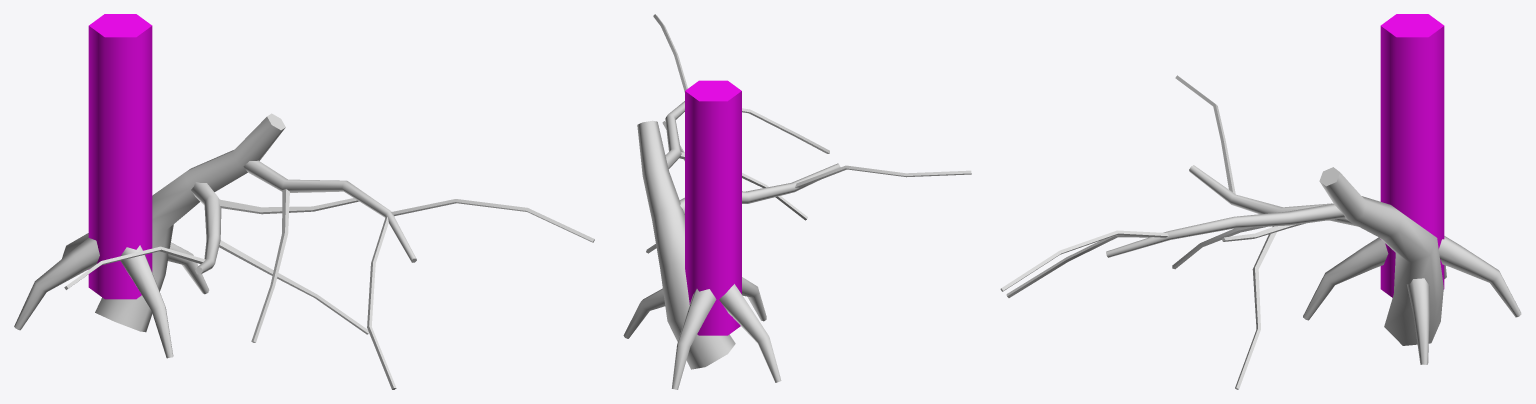
File: tree_dead_b.glb
3 renders of one model, left to right at view 1: azimuth 30°, elevation 25°; view 2: azimuth 150°, elevation 25°; view 3: azimuth 270°, elevation 25°, orthographic. The views are drawn at different scales.
Parts seen in each view (by area): view 1: tree_dead_b, tree_dead_b_hull; view 2: tree_dead_b, tree_dead_b_hull; view 3: tree_dead_b, tree_dead_b_hull.
Boxes of the visible parts, x1=… form: tree_dead_b: x1=14, y1=113, x2=594, y2=389; tree_dead_b_hull: x1=88, y1=14, x2=152, y2=299; tree_dead_b: x1=623, y1=14, x2=971, y2=389; tree_dead_b_hull: x1=685, y1=80, x2=741, y2=335; tree_dead_b: x1=1000, y1=75, x2=1521, y2=389; tree_dead_b_hull: x1=1380, y1=14, x2=1444, y2=297.
Size of the model in its own units: 5.31 by 3.53 by 5.38.
